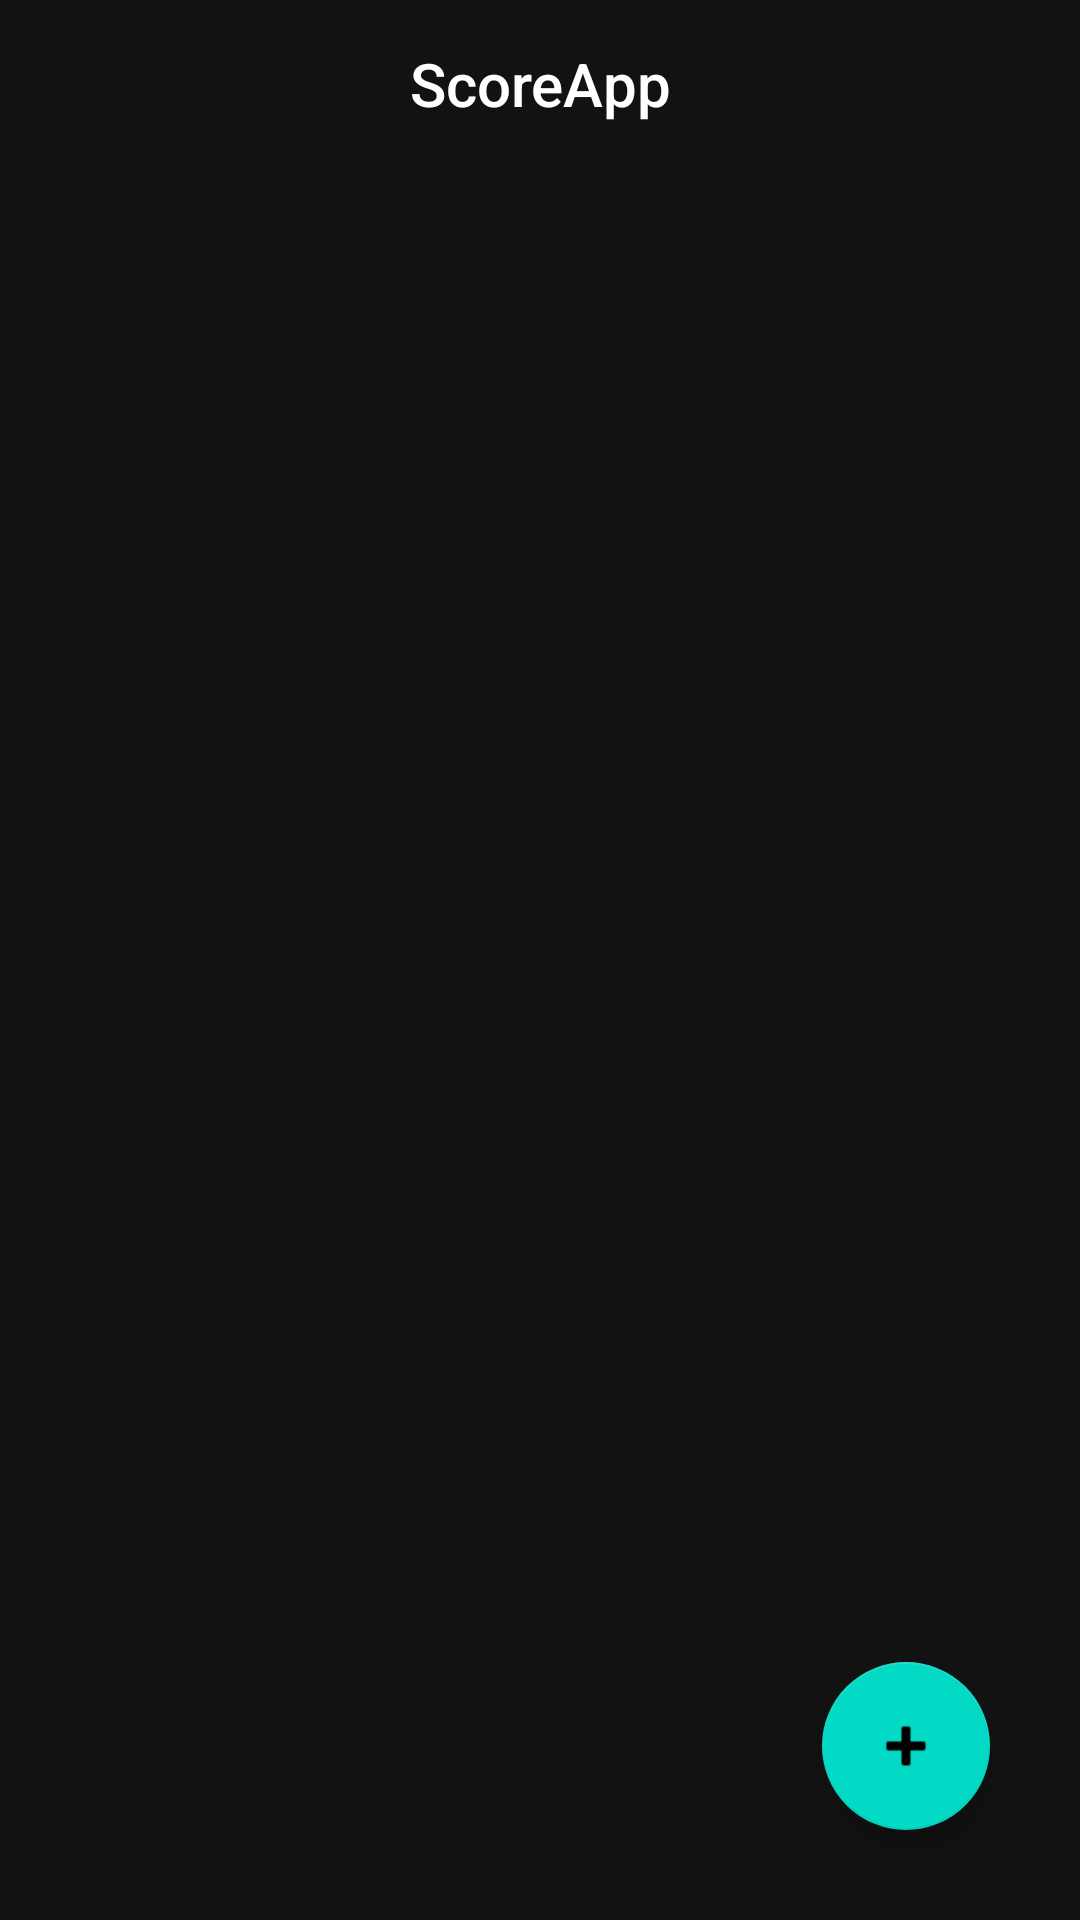

Icons on this 1080w x 1920h Android screen, each with the point to tap as point (x, y):
add: point (906, 1746)
